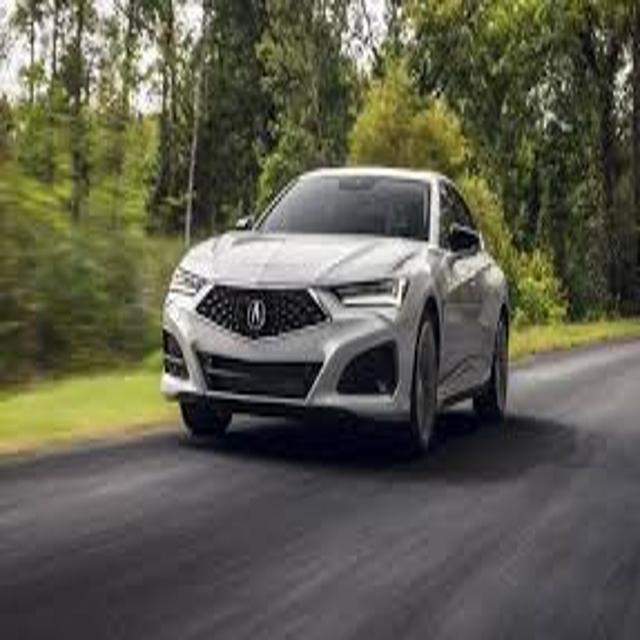car: (162, 166, 509, 452)
